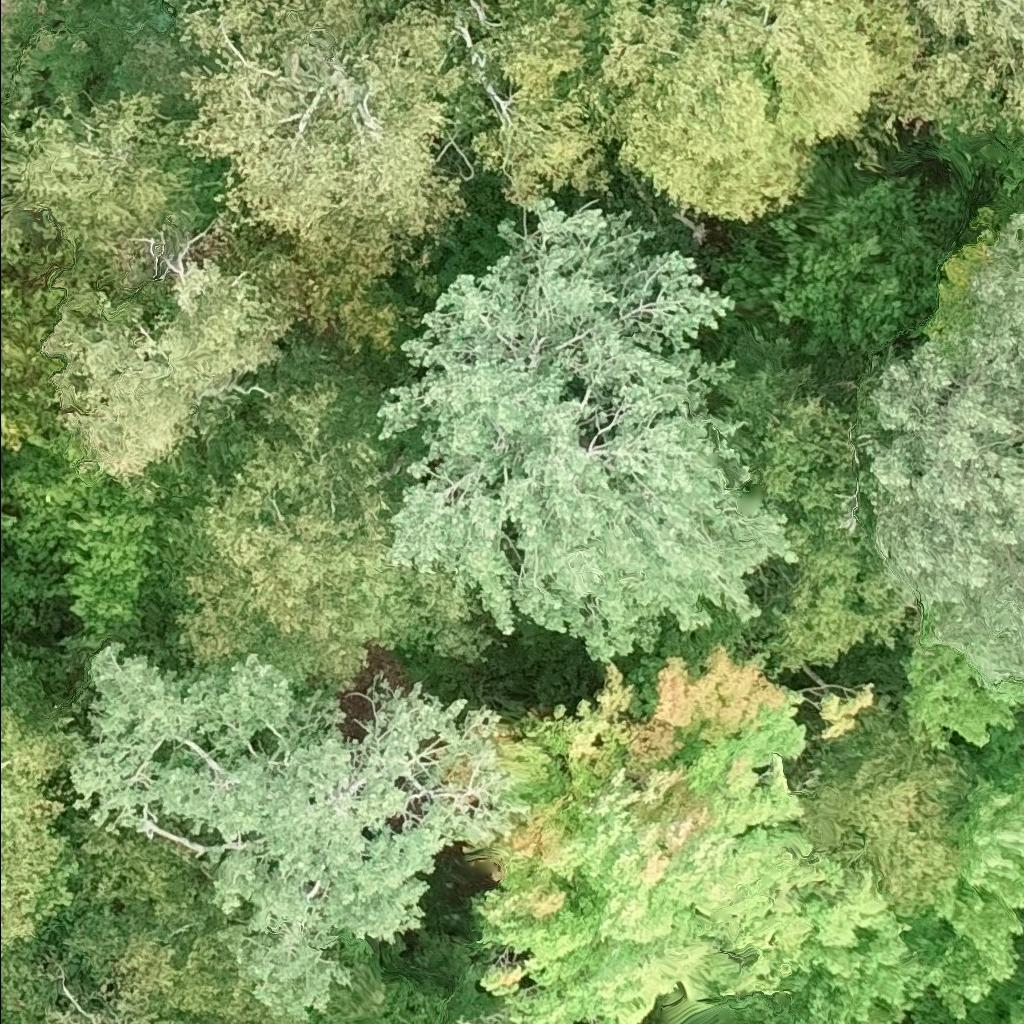crown: (376, 199, 799, 664), (70, 647, 527, 1020), (141, 340, 497, 708), (624, 363, 925, 719), (177, 0, 469, 357), (554, 0, 925, 236), (40, 227, 334, 493), (713, 158, 965, 361), (0, 90, 213, 301), (456, 0, 610, 222), (7, 436, 160, 634), (871, 0, 1023, 193), (0, 647, 87, 957), (41, 935, 304, 1023), (0, 242, 69, 446), (0, 0, 90, 116), (0, 99, 14, 124), (0, 129, 3, 152)
